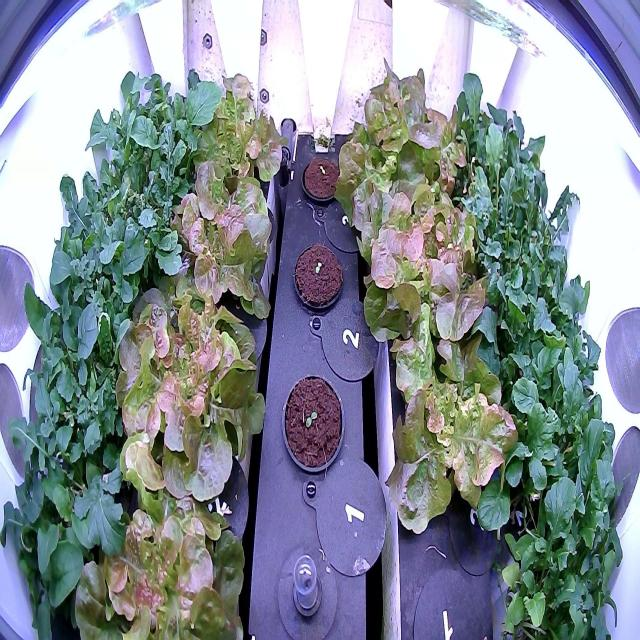empty_pod: (406, 562, 488, 638)
germination: (276, 367, 346, 485), (291, 233, 346, 320), (298, 152, 345, 206)
